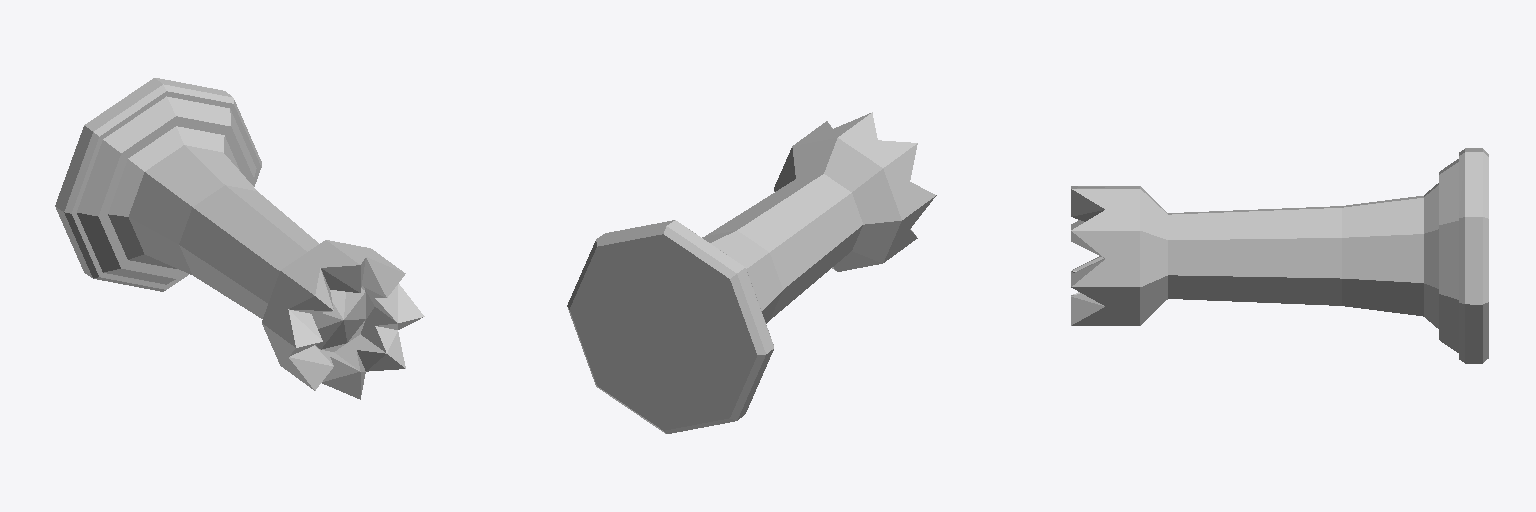
Rendered from Rook-broken.obj.
3 views of the same model, side by side, from view 1: azimuth 30°, elevation 25°; view 2: azimuth 150°, elevation 25°; view 3: azimuth 270°, elevation 25° (orthographic).
Visible parts, largest first — view 1: Object.5, Object.4, Object.3, Object.6, Object.1; view 2: Object.5, Object.4, Object.3, Object.1, Object.6; view 3: Object.5, Object.1, Object.3, Object.4, Object.6.
Part boxes in pixels (left/top/right/bottom): Object.5: left=55, top=78, right=261, bottom=272; Object.4: left=252, top=240, right=424, bottom=399; Object.3: left=85, top=206, right=308, bottom=306; Object.6: left=155, top=178, right=273, bottom=241; Object.1: left=232, top=229, right=407, bottom=337; Object.5: left=567, top=220, right=773, bottom=421; Object.4: left=809, top=112, right=936, bottom=271; Object.3: left=603, top=195, right=828, bottom=433; Object.1: left=763, top=134, right=844, bottom=280; Object.6: left=706, top=212, right=786, bottom=312; Object.5: left=1335, top=148, right=1488, bottom=363; Object.1: left=1086, top=204, right=1238, bottom=325; Object.3: left=1232, top=208, right=1479, bottom=363; Object.4: left=1071, top=186, right=1188, bottom=325; Object.6: left=1284, top=202, right=1370, bottom=259.
Size of the model in its own units: 22.9 by 22.89 by 41.58.